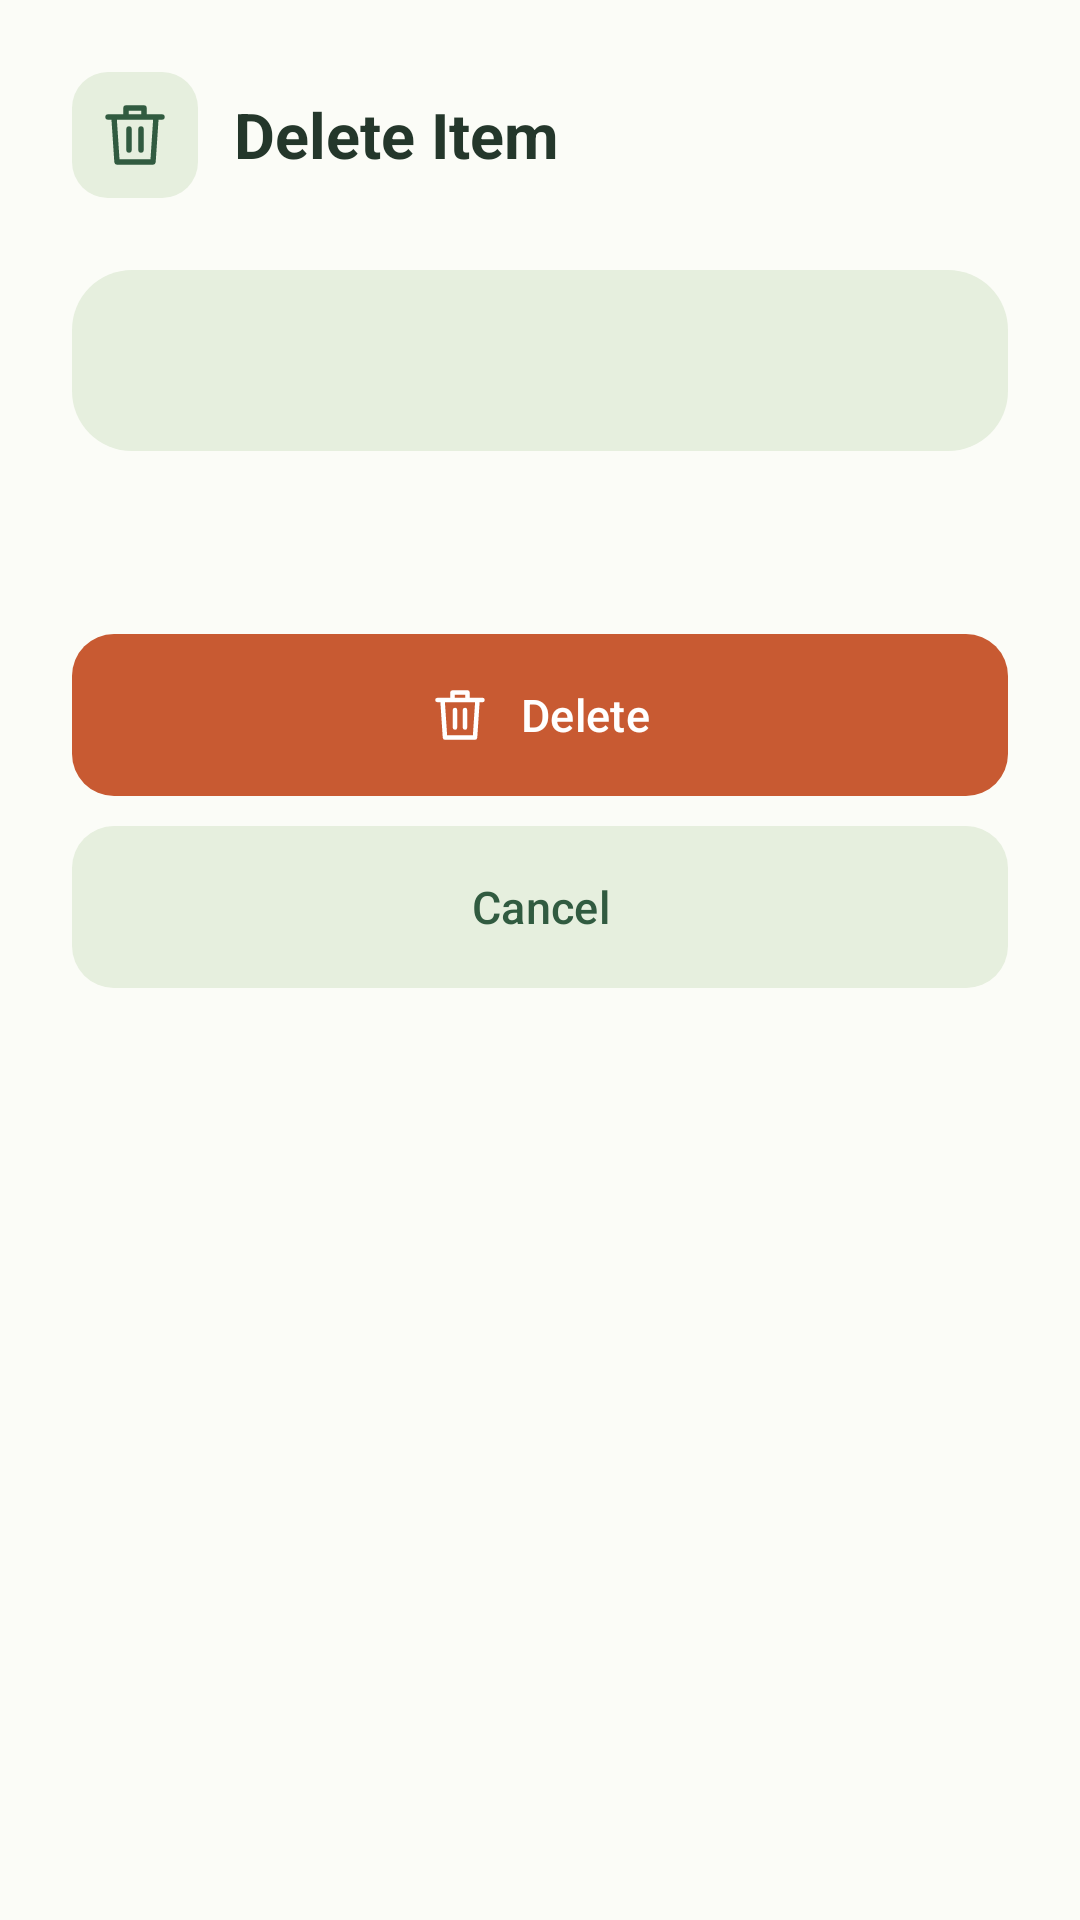

Icons on this 1080px x 1920px Android screen, each with the point to tap as point (x, y):
pantry delete: point (135, 135)
